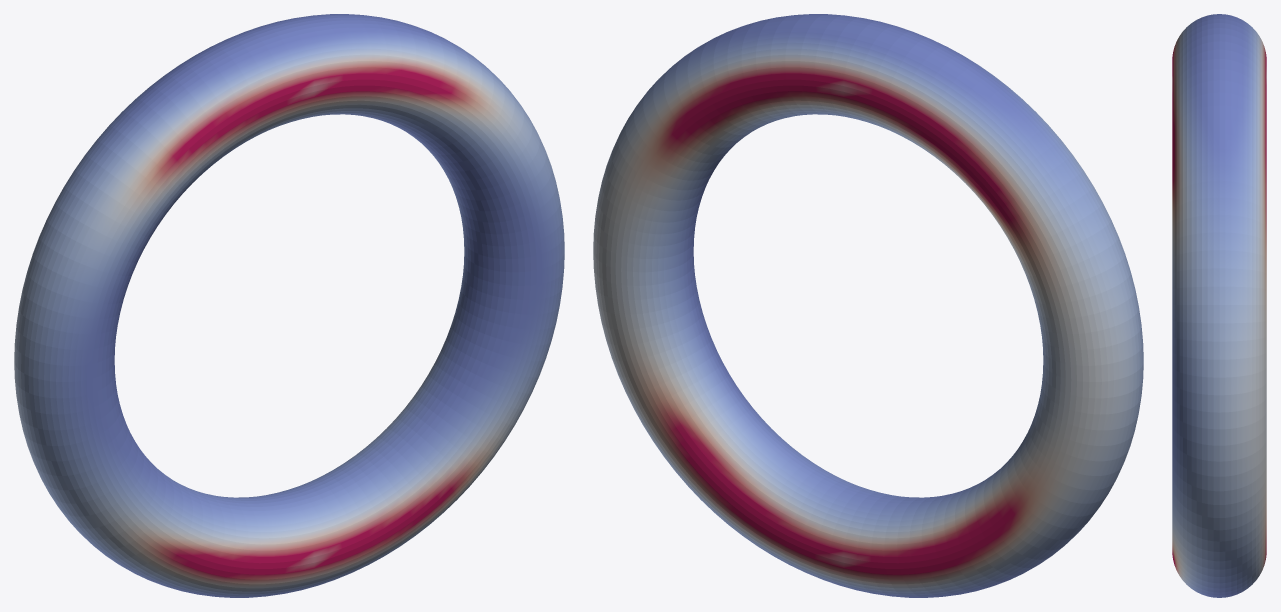
The picture shows the model from 3 angles, left to right: view 1: azimuth 30°, elevation 25°; view 2: azimuth 150°, elevation 25°; view 3: azimuth 270°, elevation 25°; orthographic projection. The views are drawn at different scales.
Parts seen in each view (by area): view 1: world; view 2: world; view 3: world.
Boxes of the visible parts, bbox=[...] form: world: bbox=[14, 14, 564, 597]; world: bbox=[593, 14, 1143, 597]; world: bbox=[1172, 14, 1266, 597].
Bounding box in the file's own units: 23.87 × 23.87 × 3.86.
